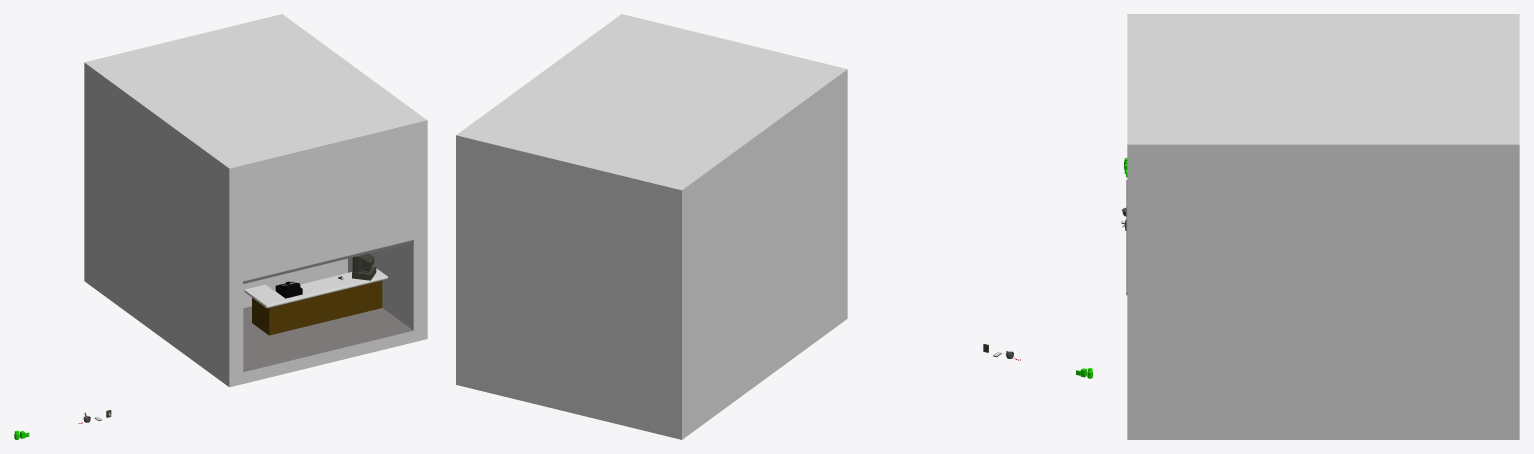
The model's file is primitiveMap.fbx.
3 views of the same model, side by side, from view 1: azimuth 30°, elevation 25°; view 2: azimuth 150°, elevation 25°; view 3: azimuth 270°, elevation 25° (orthographic). The views are drawn at different scales.
Visible parts, largest first — view 1: Building, PC; view 2: Building; view 3: Building.
Part boxes in pixels (bbox=[...]): Building: bbox=[84, 14, 427, 387]; PC: bbox=[352, 253, 376, 280]; Building: bbox=[456, 14, 847, 439]; Building: bbox=[1126, 14, 1519, 439].
Size of what is drawn, in the model's own units: 1459 by 739 by 902.
